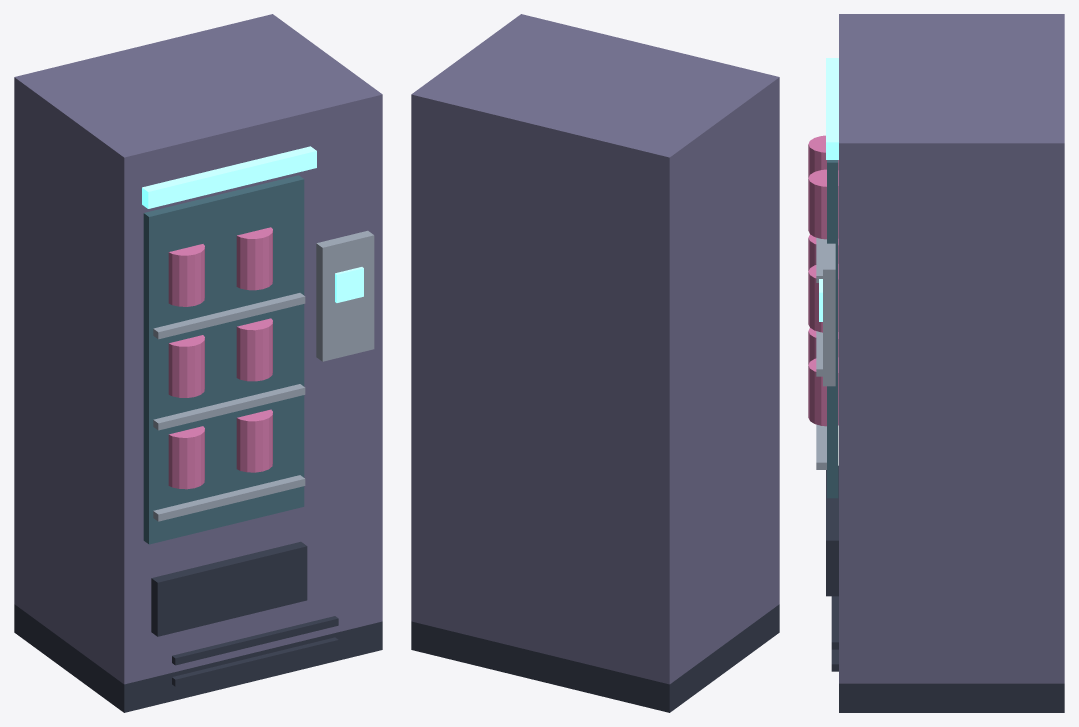
Rendered from neon-dispatch-street-vending-machine__176.glb.
The picture shows the model from 3 angles, left to right: view 1: azimuth 30°, elevation 25°; view 2: azimuth 150°, elevation 25°; view 3: azimuth 270°, elevation 25°; orthographic projection. The views are drawn at different scales.
Visible parts, largest first — view 1: shell, glass, dark, accent, metal, light; view 2: shell, dark; view 3: shell, dark, accent, metal, glass, light.
Boxes of the visible parts, left/top/right/bottom form: shell: left=14, top=14, right=382, bottom=684; glass: left=143, top=175, right=304, bottom=544; dark: left=14, top=541, right=382, bottom=712; accent: left=168, top=227, right=272, bottom=489; metal: left=153, top=230, right=374, bottom=521; light: left=142, top=146, right=363, bottom=302; shell: left=411, top=14, right=779, bottom=684; dark: left=411, top=604, right=779, bottom=712; shell: left=839, top=14, right=1064, bottom=683; dark: left=826, top=465, right=1064, bottom=712; accent: left=808, top=135, right=838, bottom=426; metal: left=816, top=237, right=835, bottom=469; glass: left=827, top=160, right=838, bottom=498; light: left=819, top=58, right=838, bottom=321.
Bounding box in the file's own units: 0.95 × 1.95 × 0.795.
